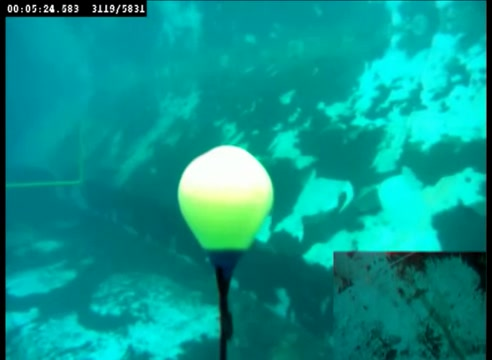buoy_red: (169, 140, 291, 269)
